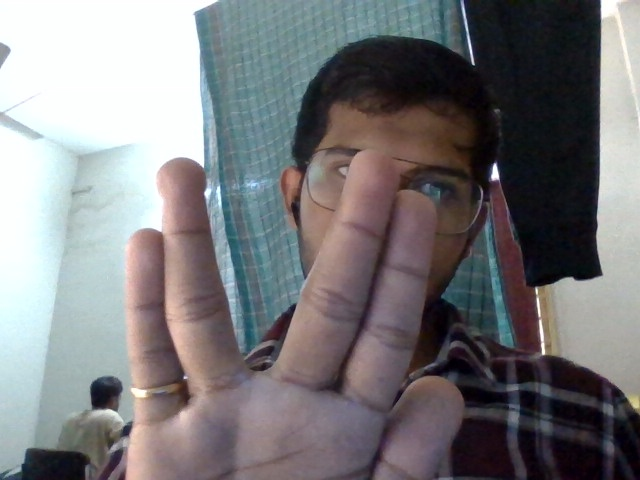LiveLong: (123, 147, 467, 480)
